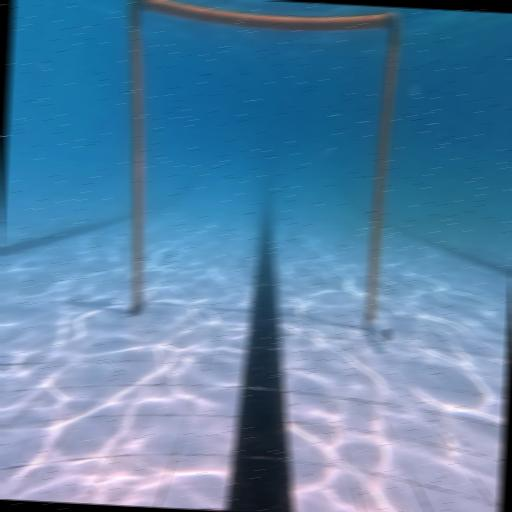gate: (110, 0, 410, 342)
